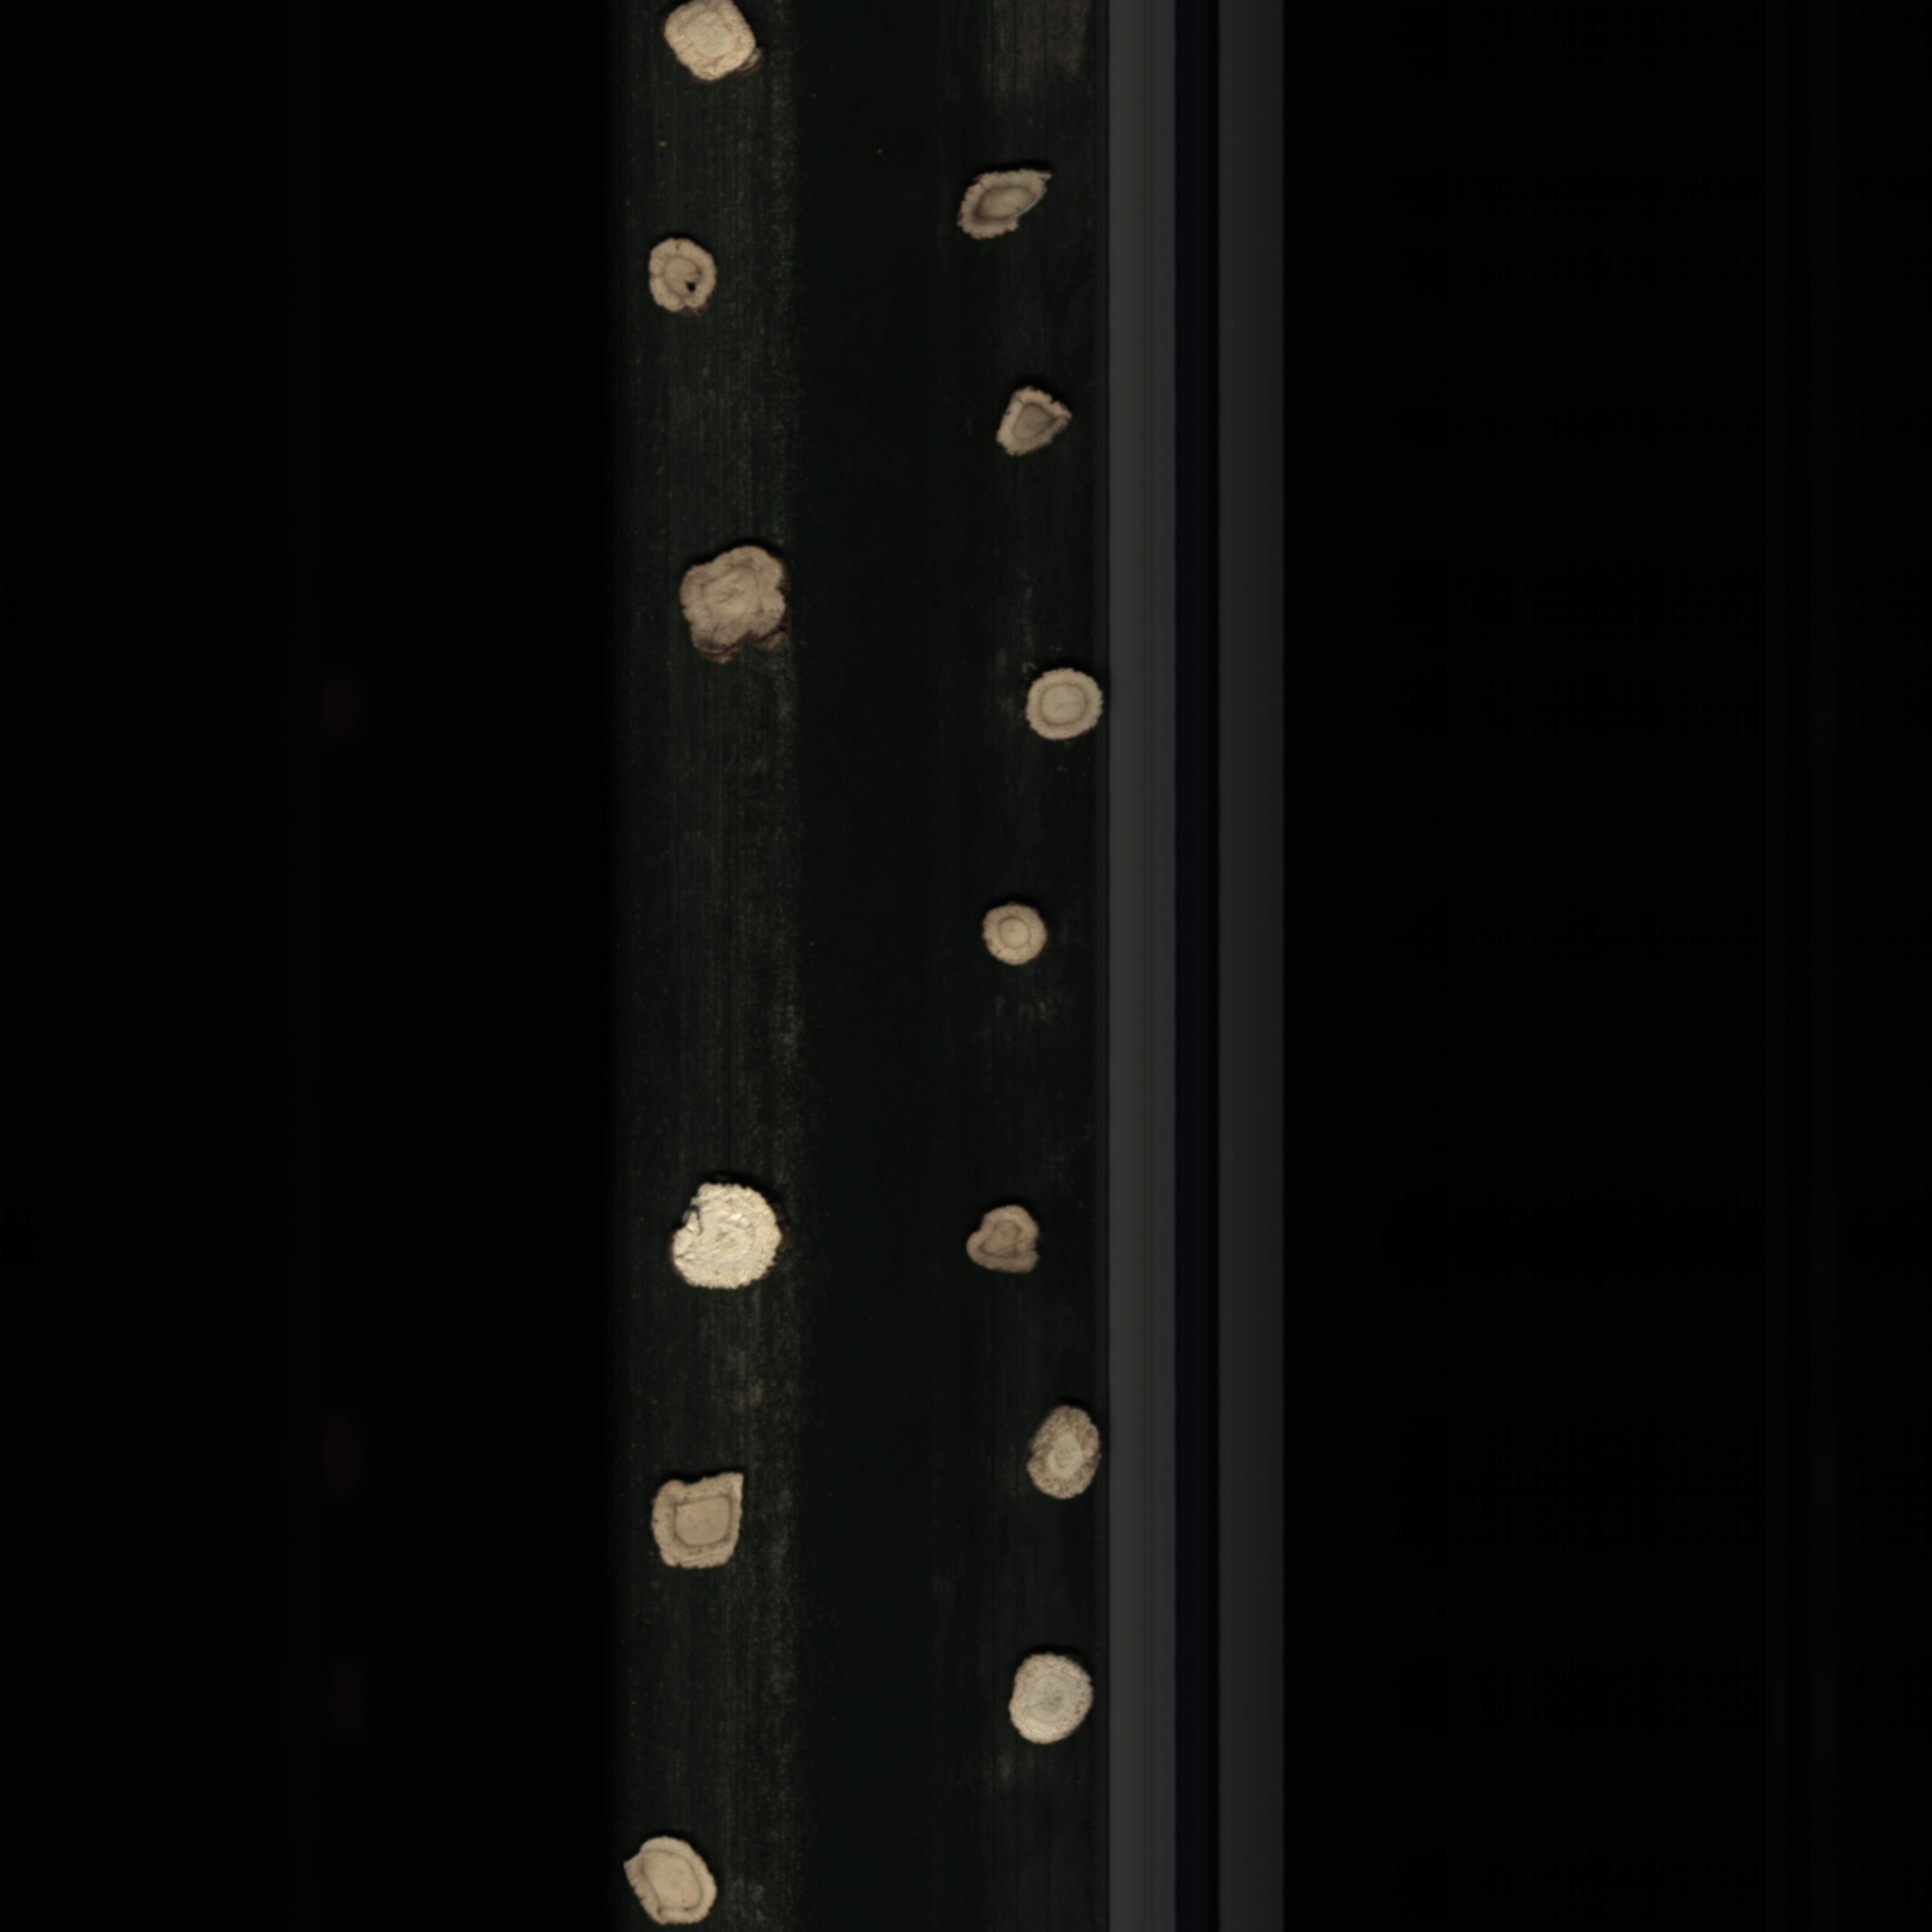debris: (648, 1465, 759, 1578)
distortion: (671, 538, 805, 672)
hole: (640, 234, 725, 329)
moldy: (952, 159, 1053, 255), (952, 1196, 1044, 1277), (991, 380, 1067, 465)
